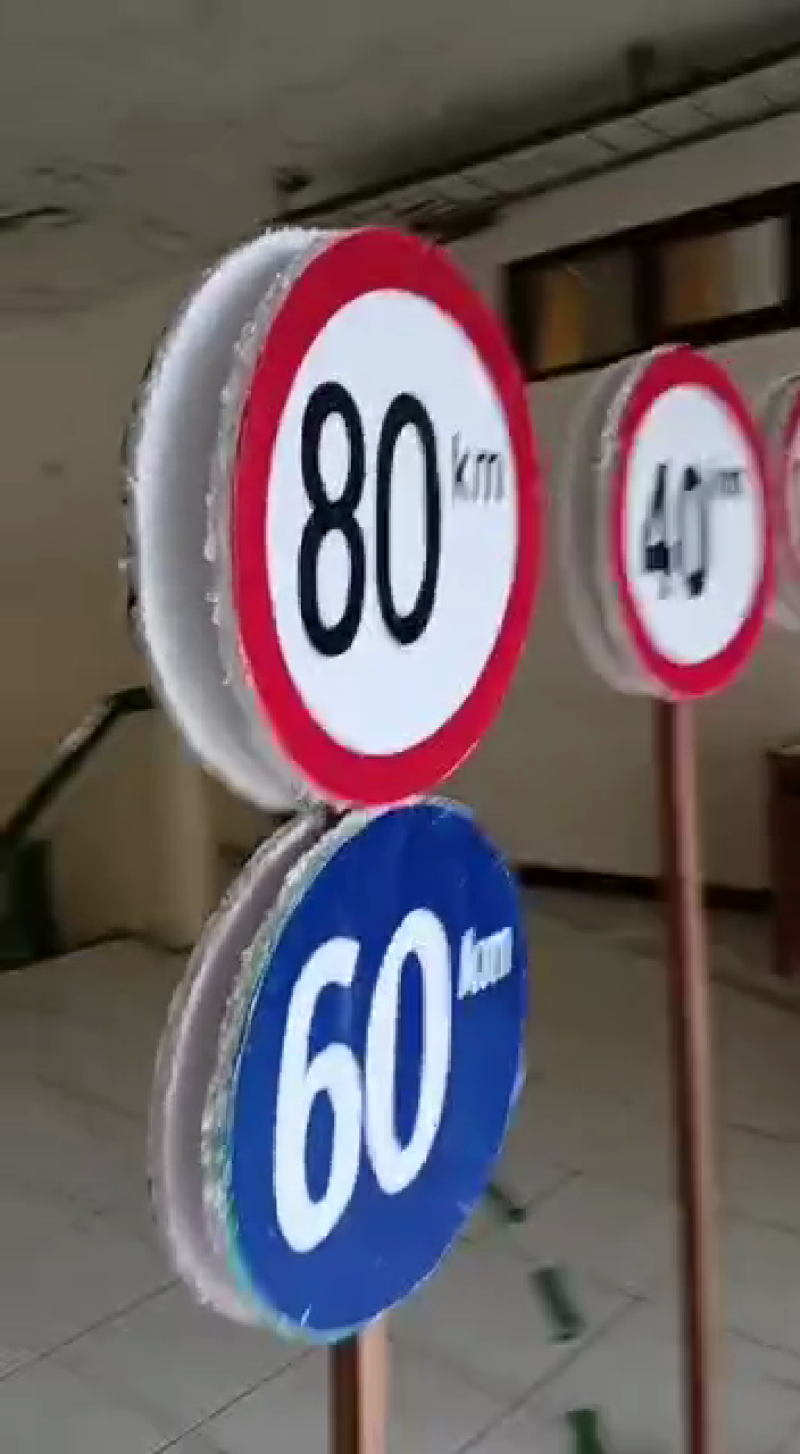batas maksimal 40kmperjam: (608, 325, 787, 711)
batas maksimal 80kmperjam minimal 60kmperjam: (165, 218, 563, 1354)
